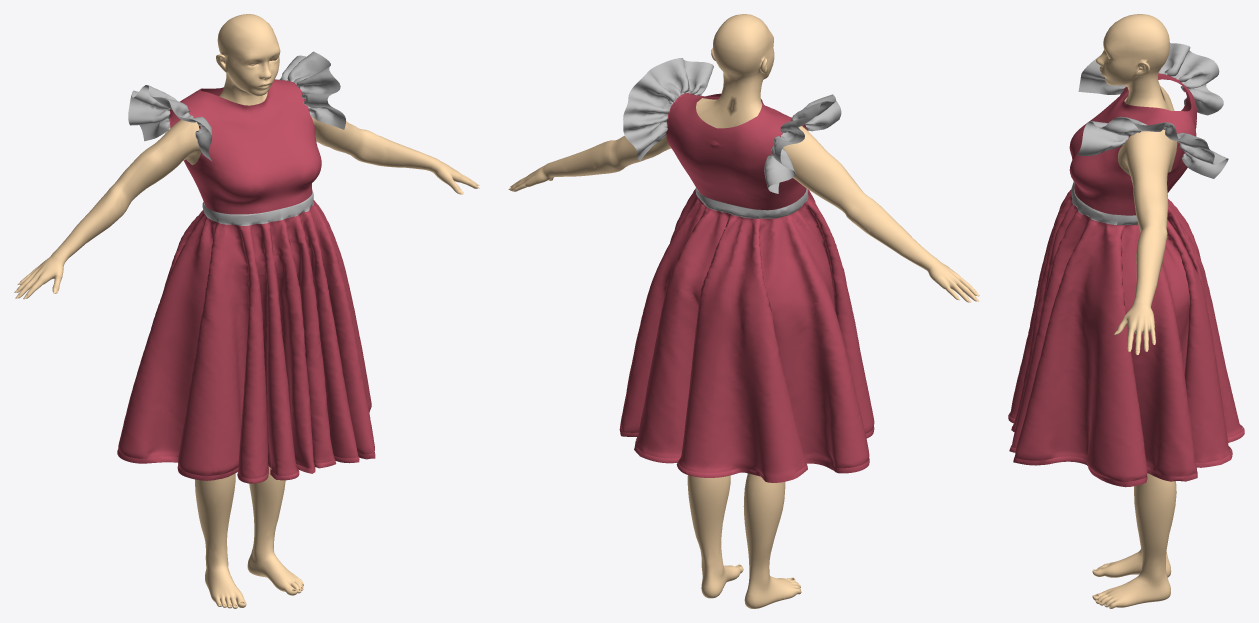
Rendered from dress4.glb.
3 renders of one model, left to right at view 1: azimuth 30°, elevation 25°; view 2: azimuth 150°, elevation 25°; view 3: azimuth 270°, elevation 25°, orthographic.
Visible parts, largest first — view 1: PinkDrees#14 (OBJ), Body.003; view 2: PinkDrees#14 (OBJ), Body.003; view 3: PinkDrees#14 (OBJ), Body.003.
Part boxes in pixels (box(x1,y1,x2,y2)): PinkDrees#14 (OBJ): box(117, 51, 375, 483); Body.003: box(16, 14, 479, 608); PinkDrees#14 (OBJ): box(619, 58, 874, 482); Body.003: box(510, 14, 976, 608); PinkDrees#14 (OBJ): box(1008, 43, 1244, 487); Body.003: box(1092, 14, 1177, 608).
Bounding box in the file's own units: 1.58 × 1.85 × 0.6927.
